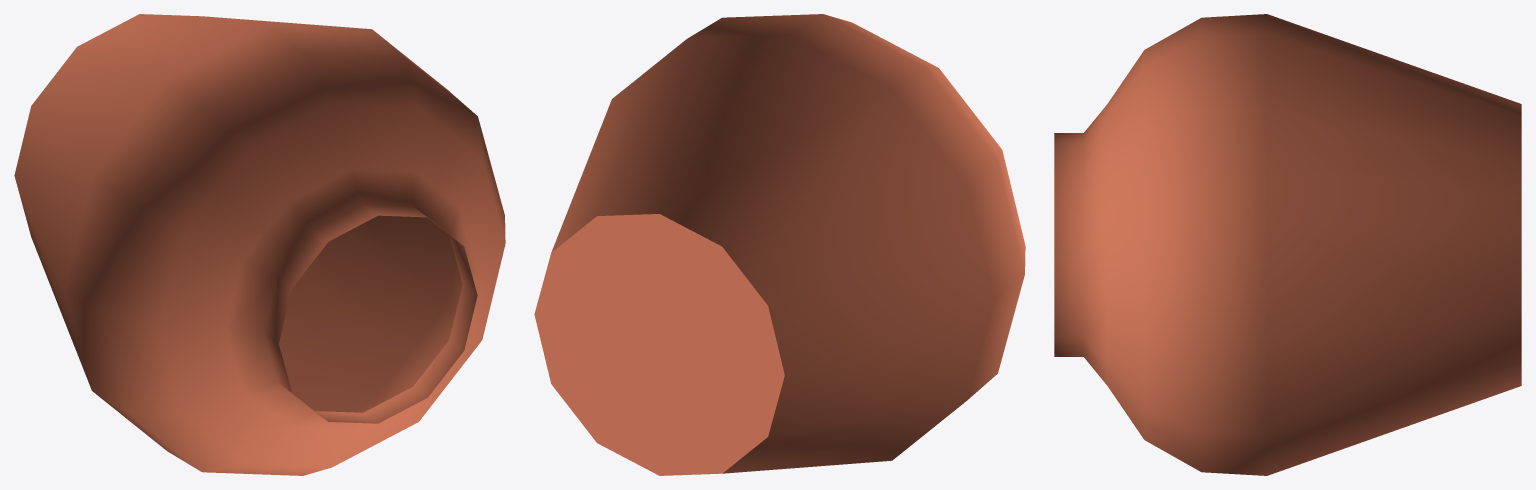
The model's file is model_align.obj.
The picture shows the model from 3 angles, left to right: view 1: azimuth 30°, elevation 25°; view 2: azimuth 150°, elevation 25°; view 3: azimuth 270°, elevation 25°; orthographic projection. The views are drawn at different scales.
Parts seen in each view (by area): view 1: mesh1_mesh1-geometry; view 2: mesh1_mesh1-geometry; view 3: mesh1_mesh1-geometry.
Part boxes in pixels (bbox=[...]): mesh1_mesh1-geometry: bbox=[14, 14, 505, 475]; mesh1_mesh1-geometry: bbox=[534, 14, 1025, 475]; mesh1_mesh1-geometry: bbox=[1054, 14, 1521, 475].
Bounding box in the file's own units: 0.1749 × 0.1749 × 0.1761.
